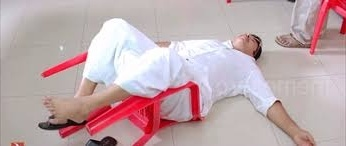fall: (30, 17, 320, 145)
